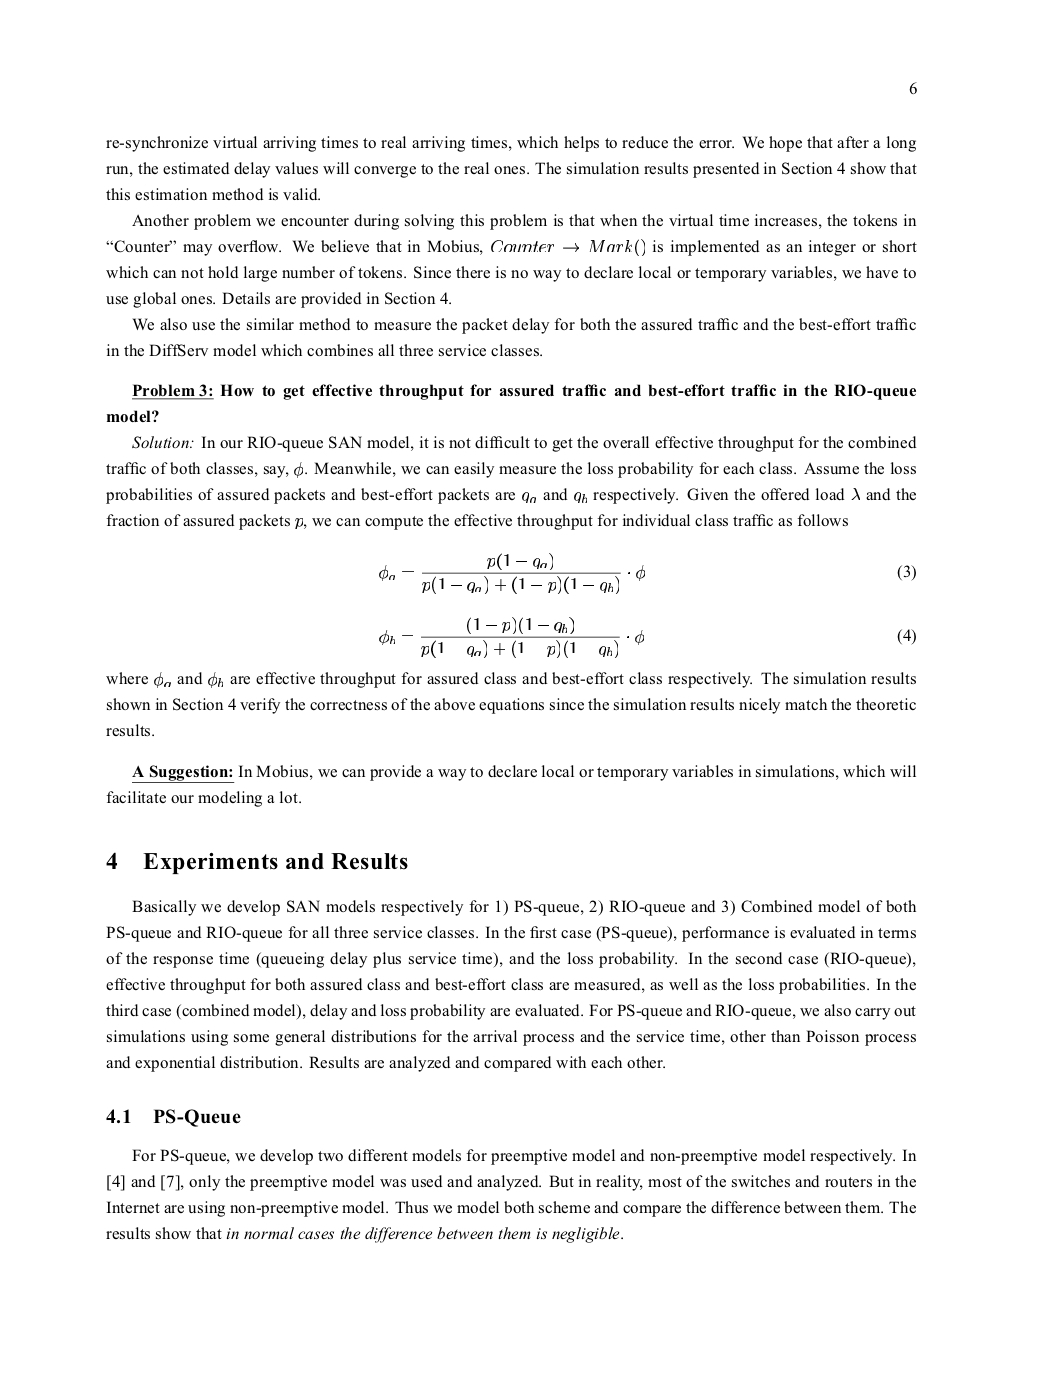formula: (379, 552, 915, 594), (379, 616, 915, 658)
